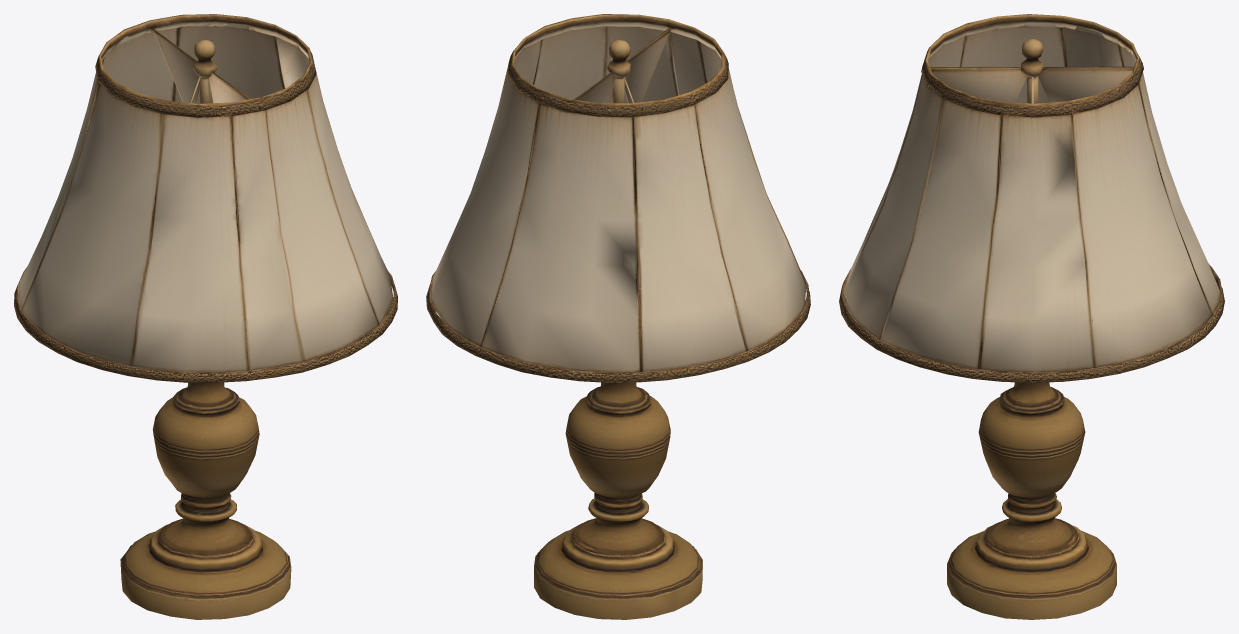
The picture shows the model from 3 angles, left to right: view 1: azimuth 30°, elevation 25°; view 2: azimuth 150°, elevation 25°; view 3: azimuth 270°, elevation 25°; orthographic projection.
Visible parts, largest first — view 1: tripo_node_15ff0661-7f31-49c8-8d49-8f727878a4d4; view 2: tripo_node_15ff0661-7f31-49c8-8d49-8f727878a4d4; view 3: tripo_node_15ff0661-7f31-49c8-8d49-8f727878a4d4.
Part boxes in pixels (box(x1,y1,x2,y2)): tripo_node_15ff0661-7f31-49c8-8d49-8f727878a4d4: box(14, 14, 397, 619); tripo_node_15ff0661-7f31-49c8-8d49-8f727878a4d4: box(426, 14, 810, 619); tripo_node_15ff0661-7f31-49c8-8d49-8f727878a4d4: box(839, 14, 1224, 619).
Bounding box in the file's own units: 0.6426 × 0.998 × 0.6426.
Materials: 1 (1 with a texture image).
